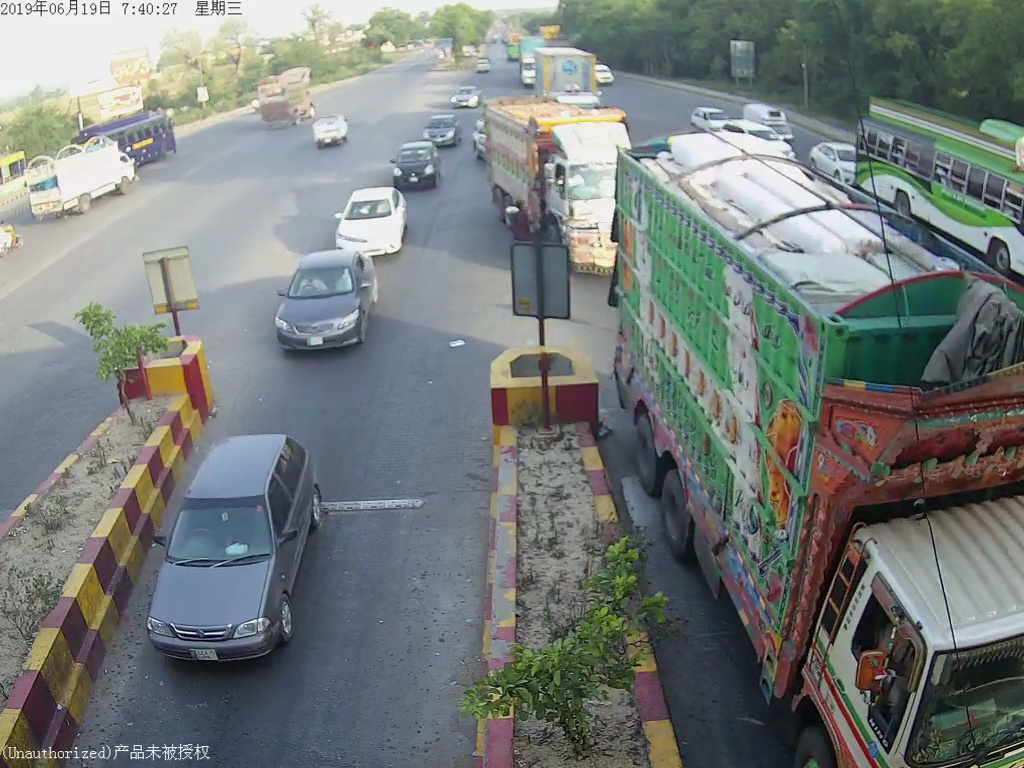Cat-1: (151, 427, 329, 673), (272, 256, 378, 361), (334, 183, 402, 254)
Cat-4: (624, 141, 1014, 762), (490, 101, 617, 245)
